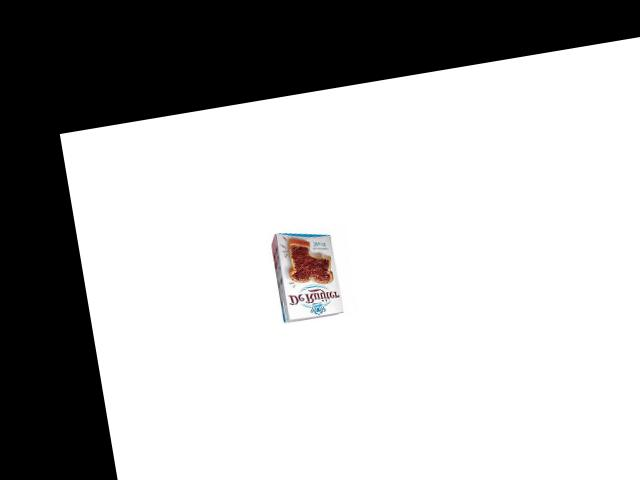chocolate: (261, 225, 352, 330)
